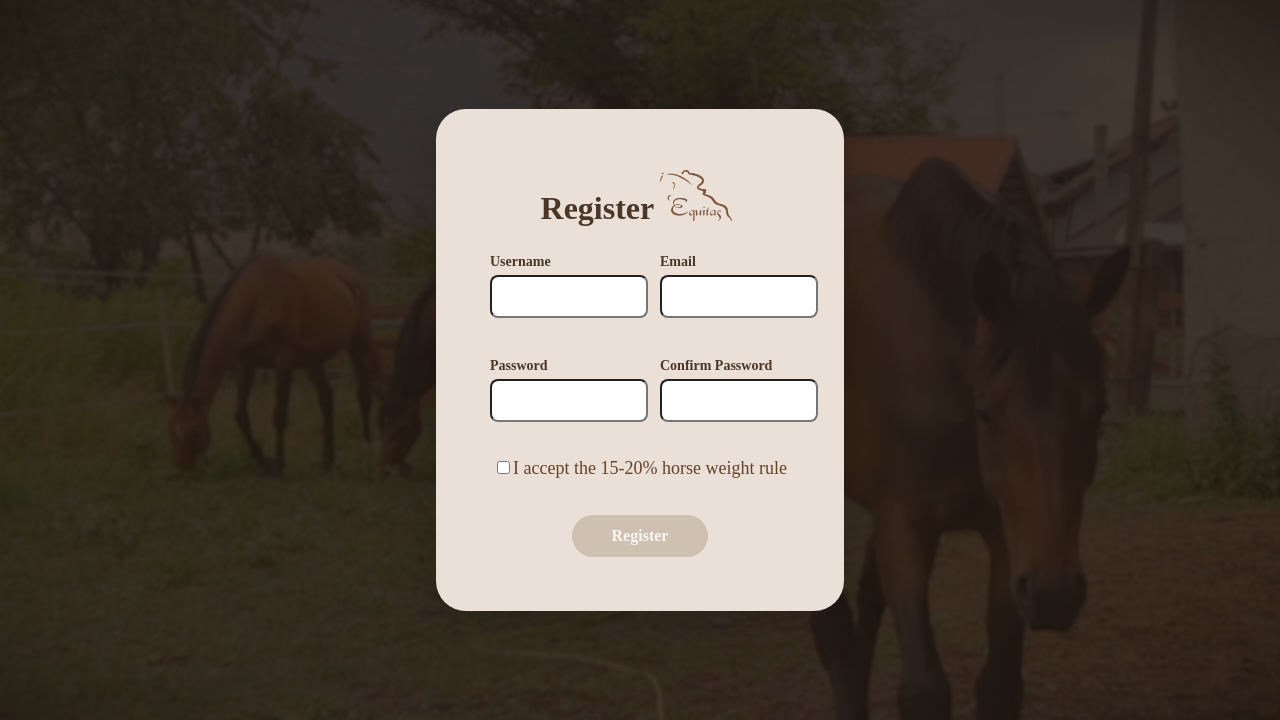
RegisterForm › submit button becomes disabled again if disclaimer is unchecked
This screenshot has width=1280, height=720.
Click the checkbox. click: [504, 467]
box: [497, 461, 510, 474]
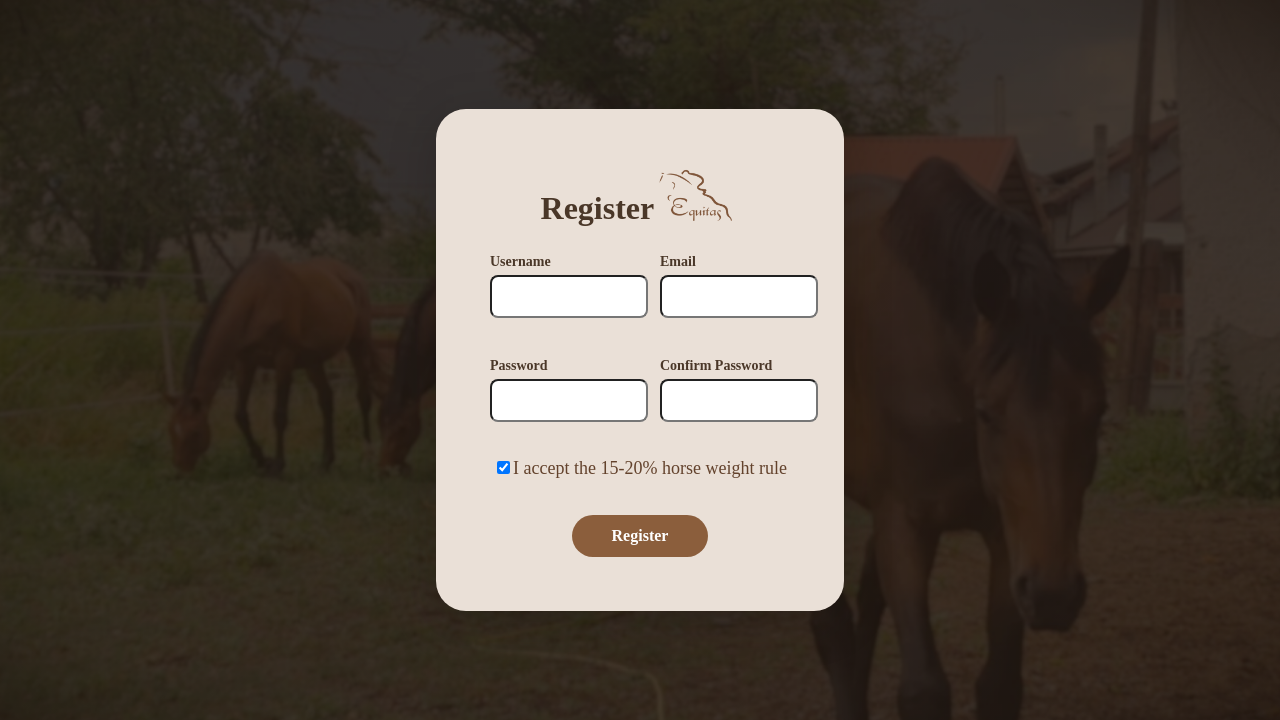
Click the checkbox. click: [504, 467]
box: [497, 461, 510, 474]
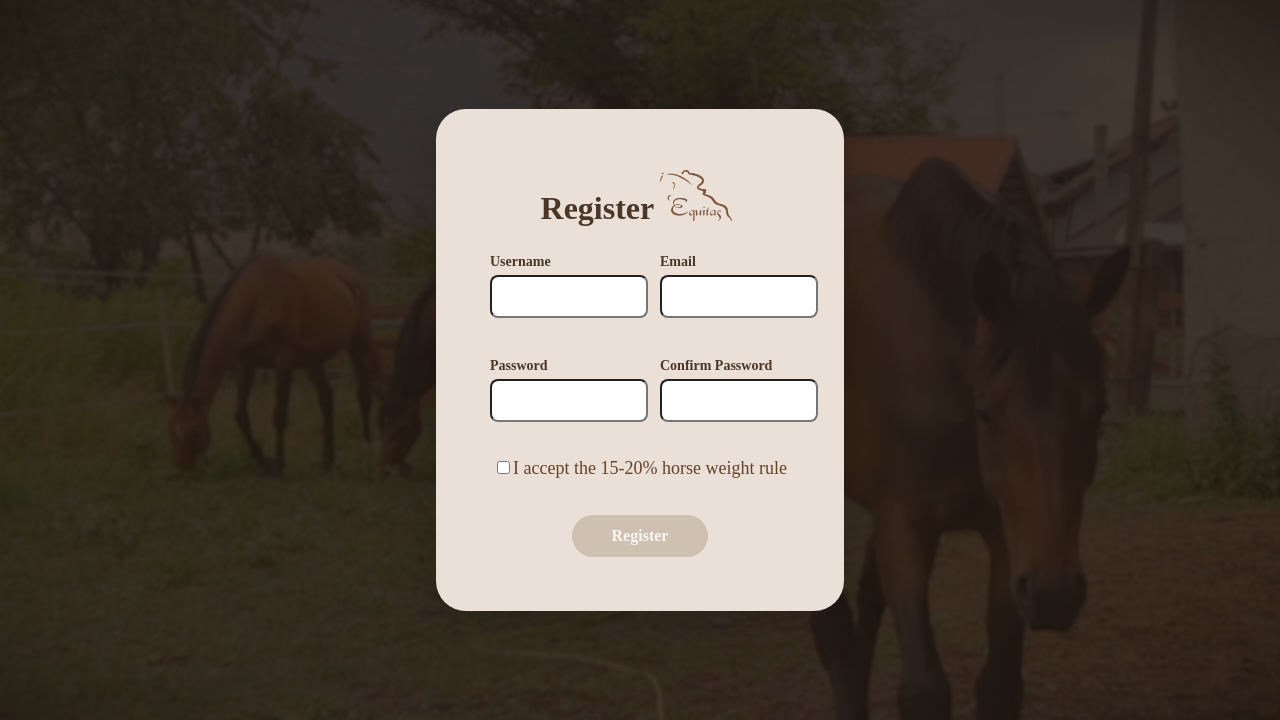
expect the button "Register" is disabled: met, box [572, 515, 708, 557]
